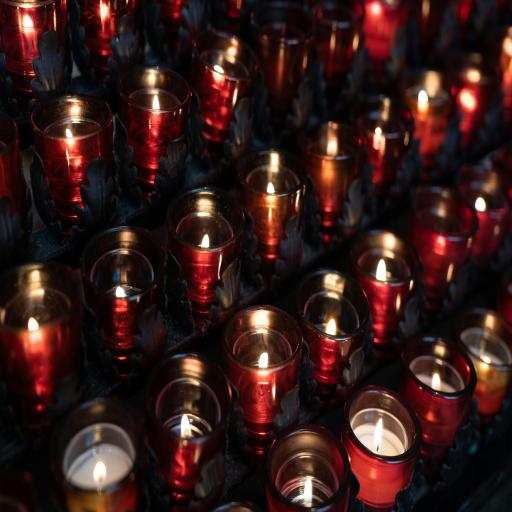candlelight: (52, 399, 144, 511), (147, 352, 229, 460), (166, 185, 248, 282), (346, 388, 422, 466), (0, 0, 65, 90), (296, 270, 364, 346), (1, 261, 82, 323), (401, 336, 478, 401), (352, 228, 419, 298), (118, 64, 191, 122), (410, 186, 479, 244), (29, 93, 111, 141), (454, 307, 512, 372), (274, 454, 340, 508), (249, 148, 306, 210), (193, 32, 255, 86), (400, 68, 456, 124), (455, 162, 510, 218), (89, 250, 154, 297), (361, 115, 408, 173), (444, 52, 500, 100), (305, 119, 362, 165), (233, 328, 286, 368), (255, 1, 307, 39)
